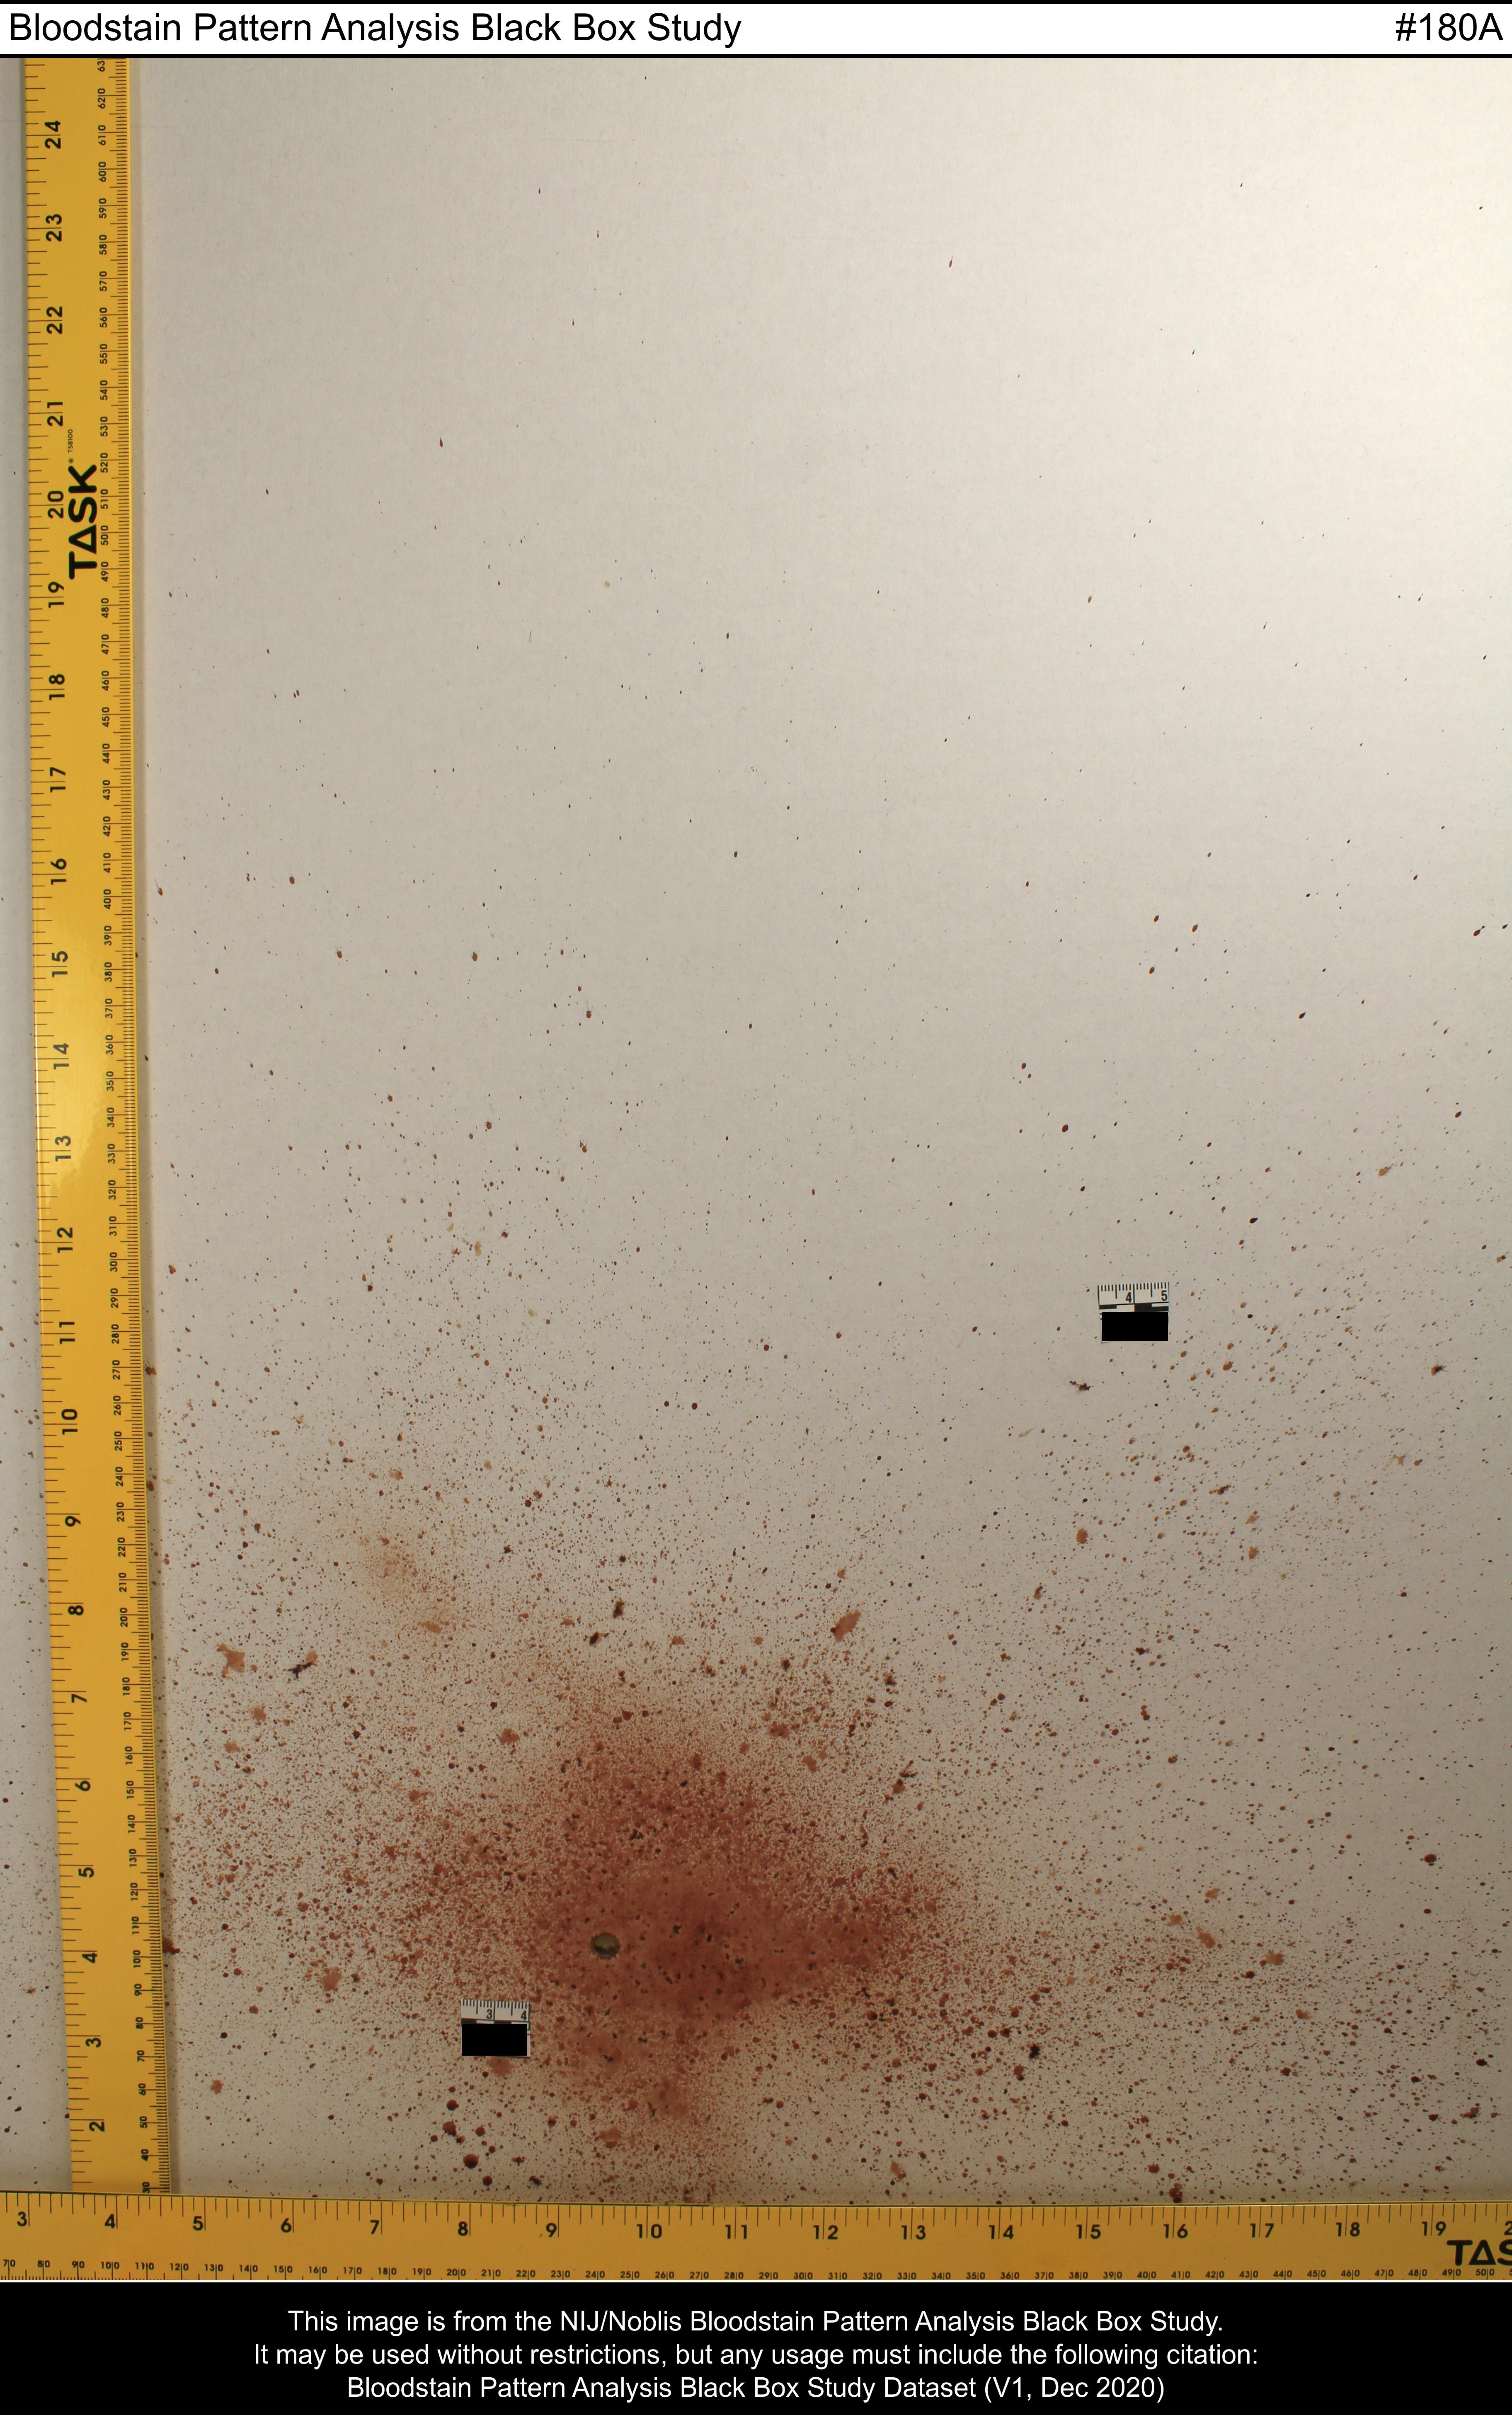Impact: (171, 1339, 1482, 2176)
